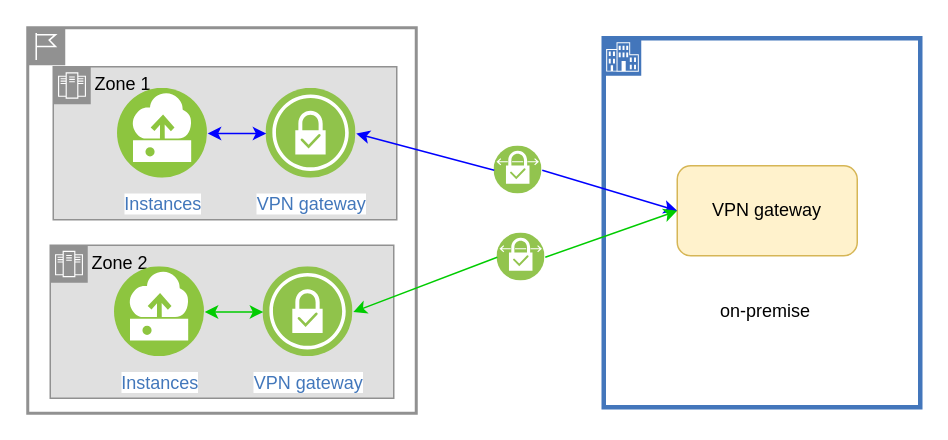
Image size: 948x440. Some labels were removed from this diagram. Here are the shapes that lost their labels. From the top down, the box of each, then its label:
(26, 26, 417, 414): Region
(601, 35, 922, 409): Enterprise Network
